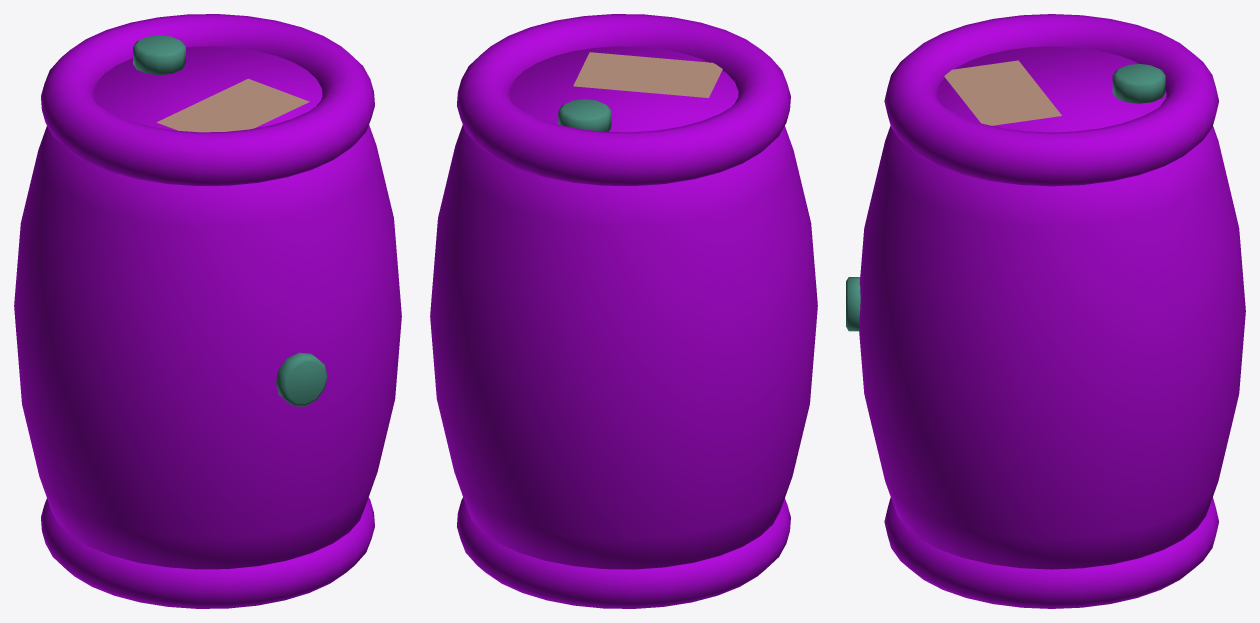
Rendered from GB_084_barrel.glb.
3 renders of one model, left to right at view 1: azimuth 30°, elevation 25°; view 2: azimuth 150°, elevation 25°; view 3: azimuth 270°, elevation 25°, orthographic.
Visible parts, largest first — view 1: Barrel; view 2: Barrel; view 3: Barrel.
Part boxes in pixels (bbox=[...]): Barrel: bbox=[14, 14, 401, 608]; Barrel: bbox=[430, 14, 817, 608]; Barrel: bbox=[846, 14, 1245, 608].
Size of the model in its own units: 1.04 by 1.39 by 1.07.
